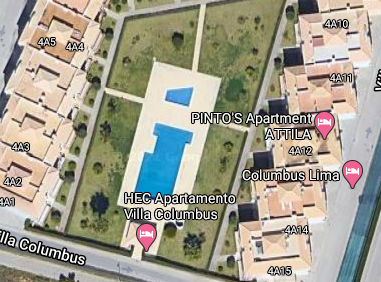pool: (145, 126, 184, 191)
